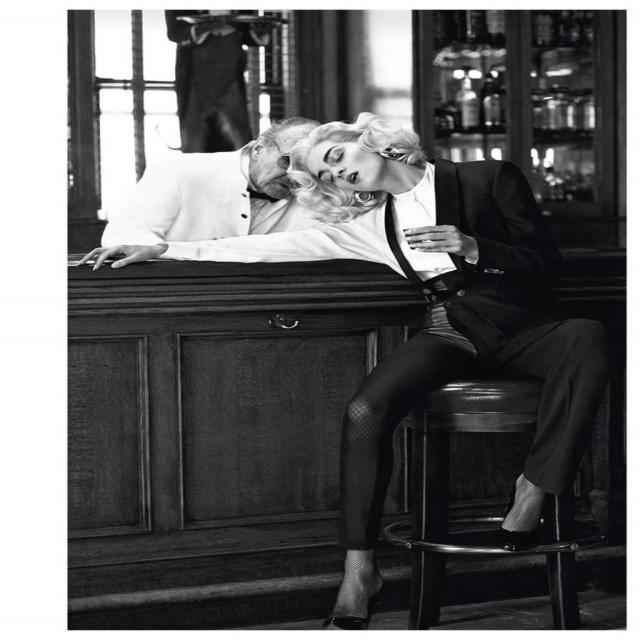nomask: (308, 138, 384, 191), (257, 132, 317, 195)
